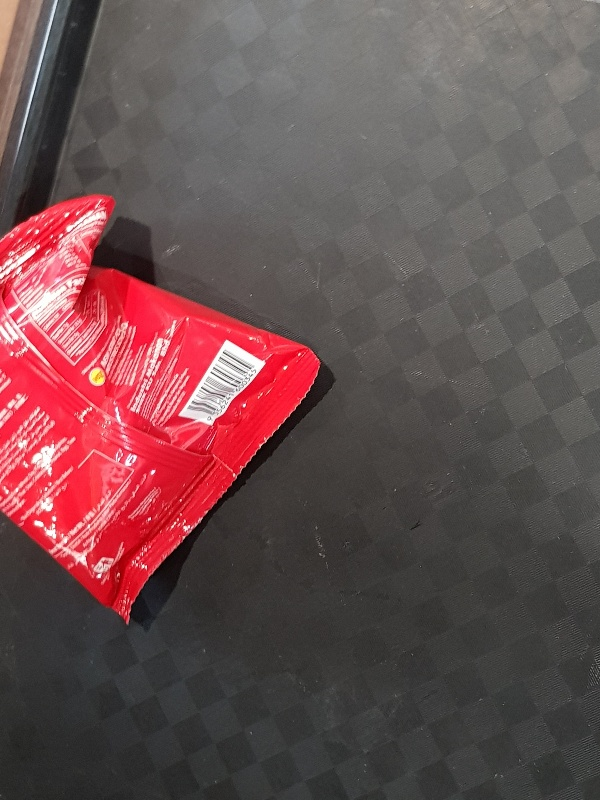ShoyueMi Spicy Flavoured Snacks: (3, 190, 323, 627)
